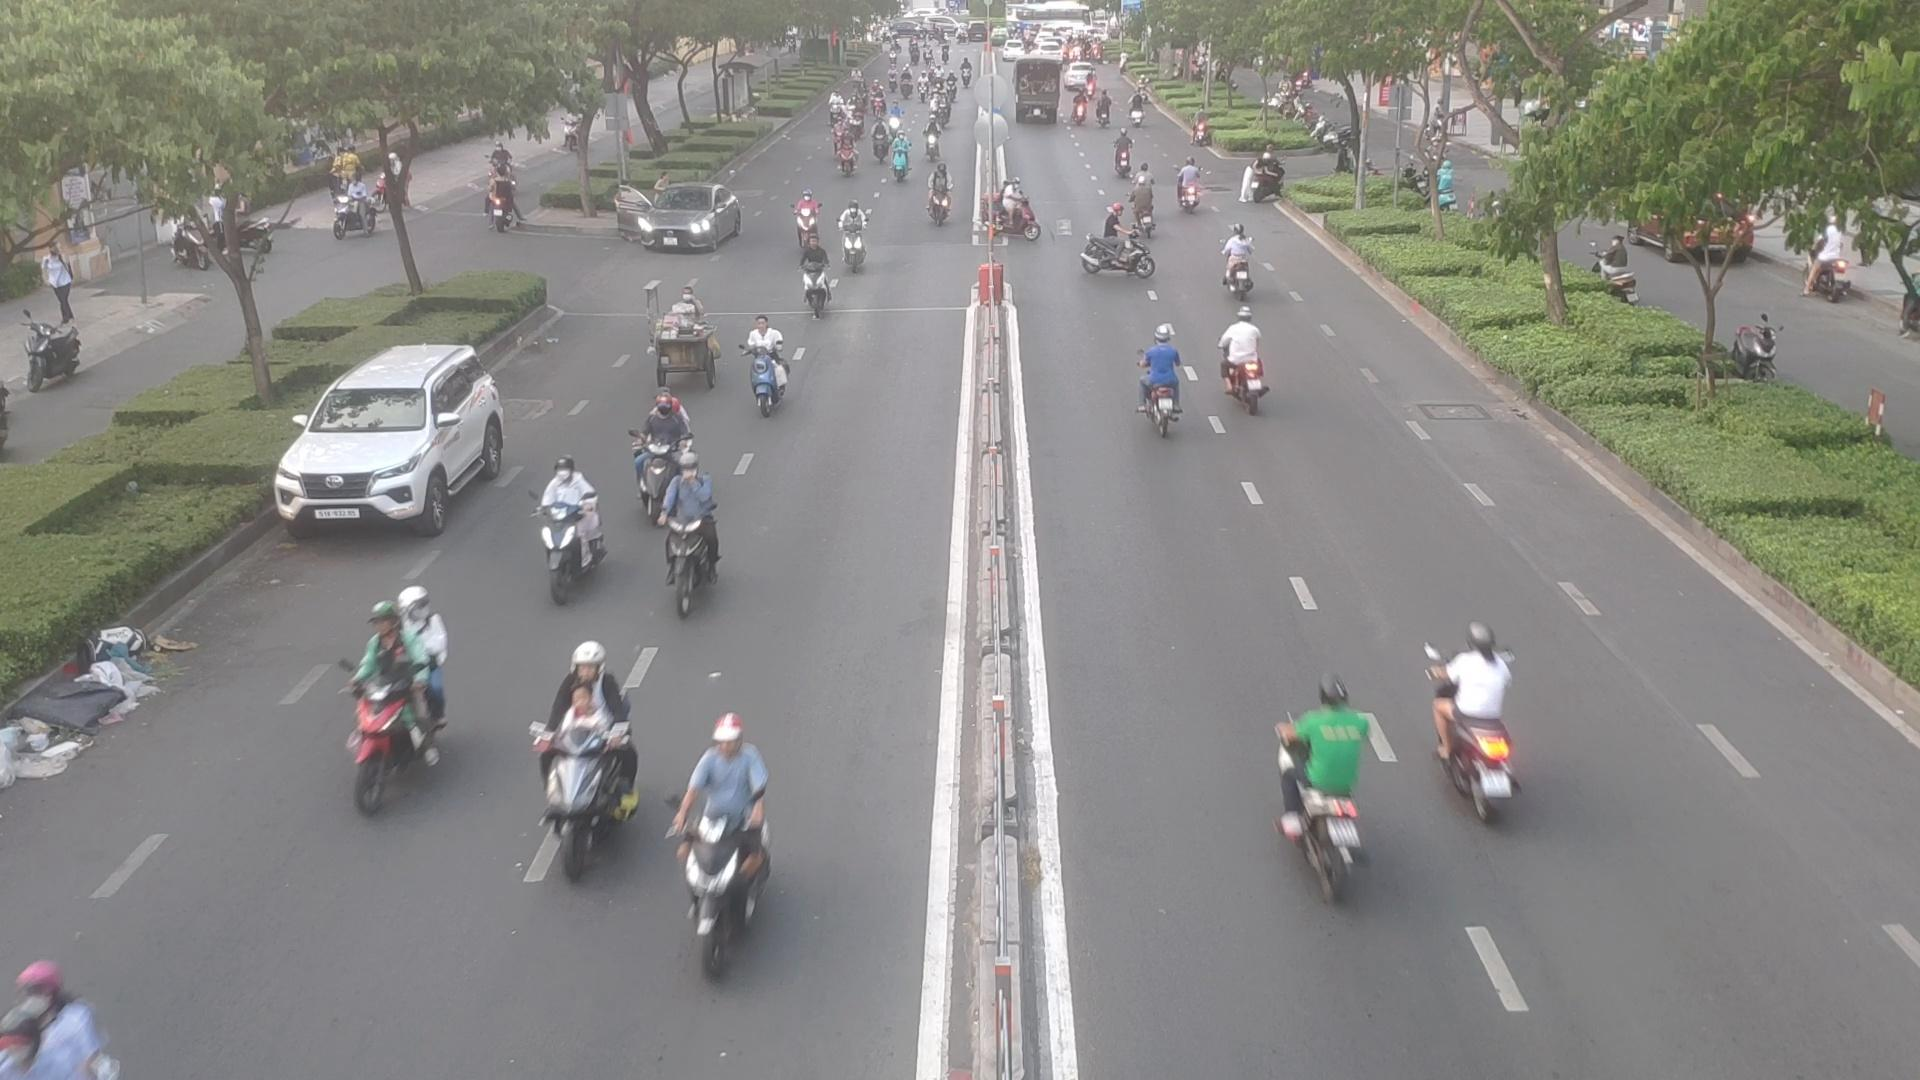car: (272, 345, 512, 534), (615, 186, 749, 258)
motorbike: (545, 640, 640, 870), (690, 709, 769, 953), (344, 661, 451, 819), (1283, 673, 1357, 893), (1429, 624, 1509, 819), (665, 460, 717, 616), (541, 498, 613, 603), (1139, 323, 1185, 434), (644, 393, 684, 500), (1230, 314, 1265, 407), (1084, 239, 1155, 278), (803, 239, 829, 323), (754, 356, 791, 414), (837, 203, 866, 270), (1221, 255, 1253, 299), (1112, 131, 1139, 181), (1131, 186, 1156, 240), (930, 161, 949, 225), (800, 191, 819, 251), (1179, 161, 1199, 211)
